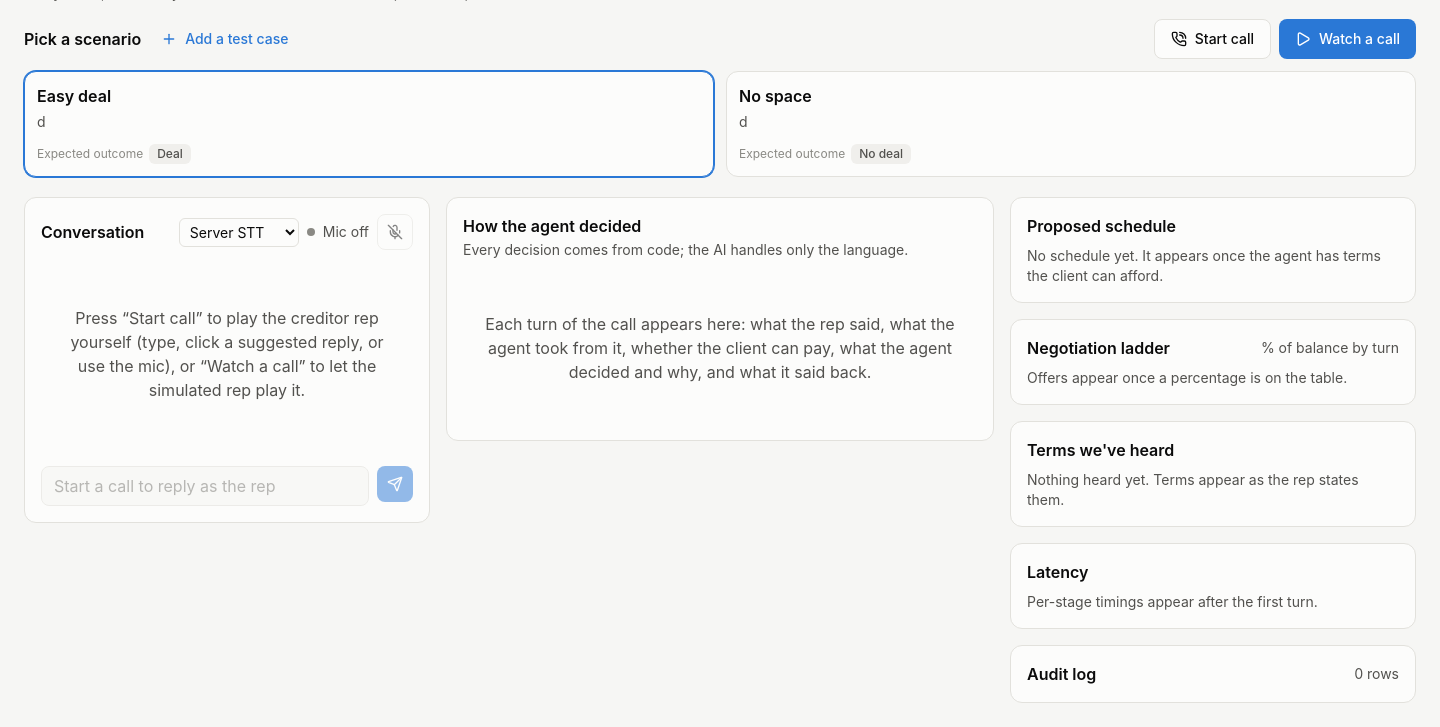
it: LiveApp custom test cases › opens the editor pre-filled with the template and adds the case as a card
This screenshot has width=1440, height=727.
expect the button "No space d Expected outcome No deal" is shown: met, box [726,71,1416,177]
Click the button "Add a test case": point(225, 39) [149,23,300,55]
(page scrolled)
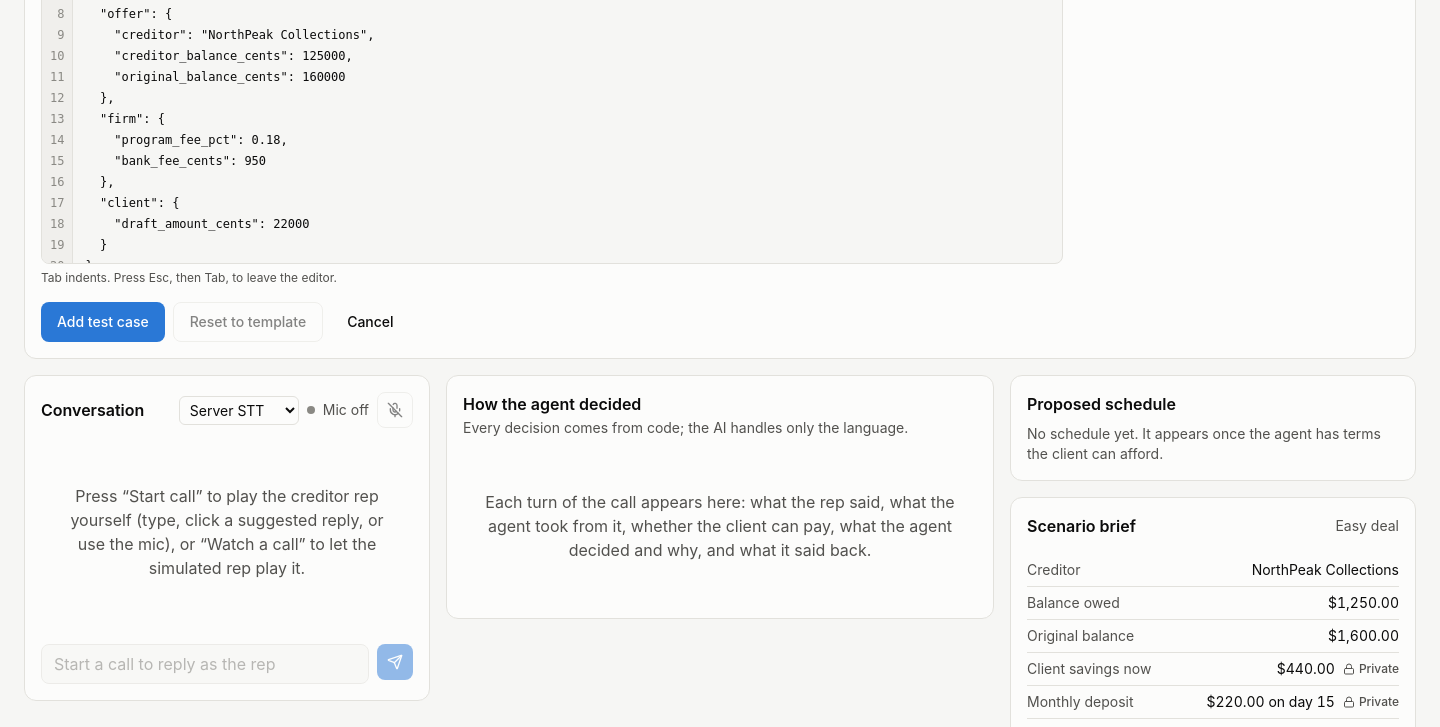
Click the button "Add test case": point(103, 322) [41,302,165,342]
(page scrolled)
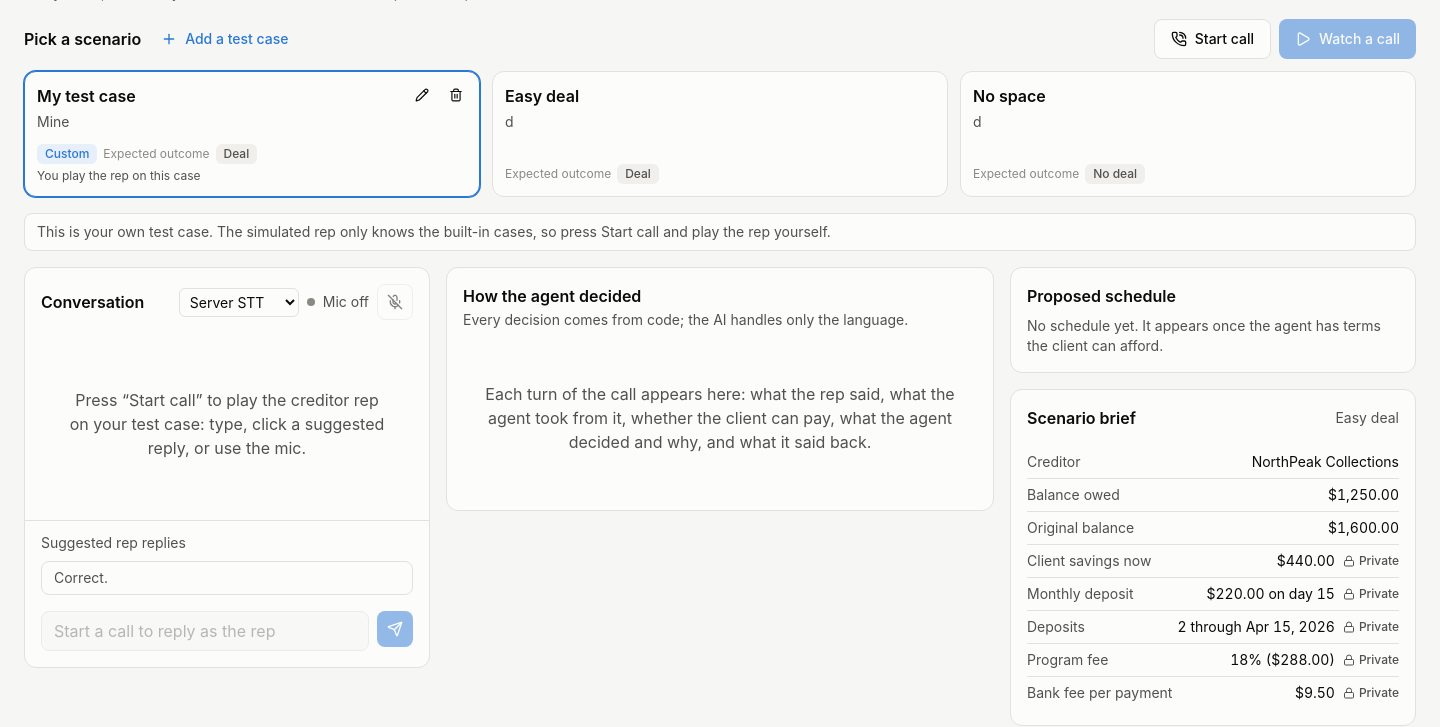
expect the text "Custom" is shown: met, box [37,144,97,164]
expect the button "Watch a call" is disabled: met, box [1279,19,1416,59]
